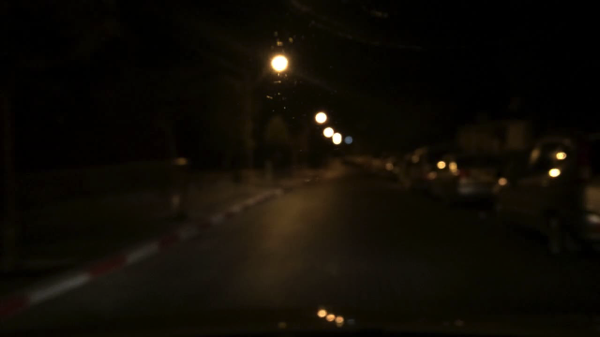car: (489, 131, 599, 257), (422, 143, 510, 205), (395, 142, 459, 193), (381, 150, 406, 182), (365, 152, 387, 172), (350, 152, 371, 166), (343, 154, 355, 163)
